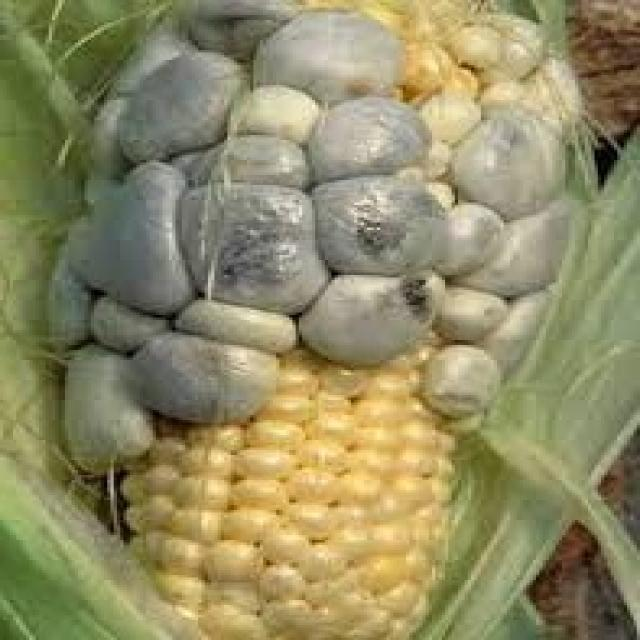Leaf_Scald: (14, 1, 626, 640)
